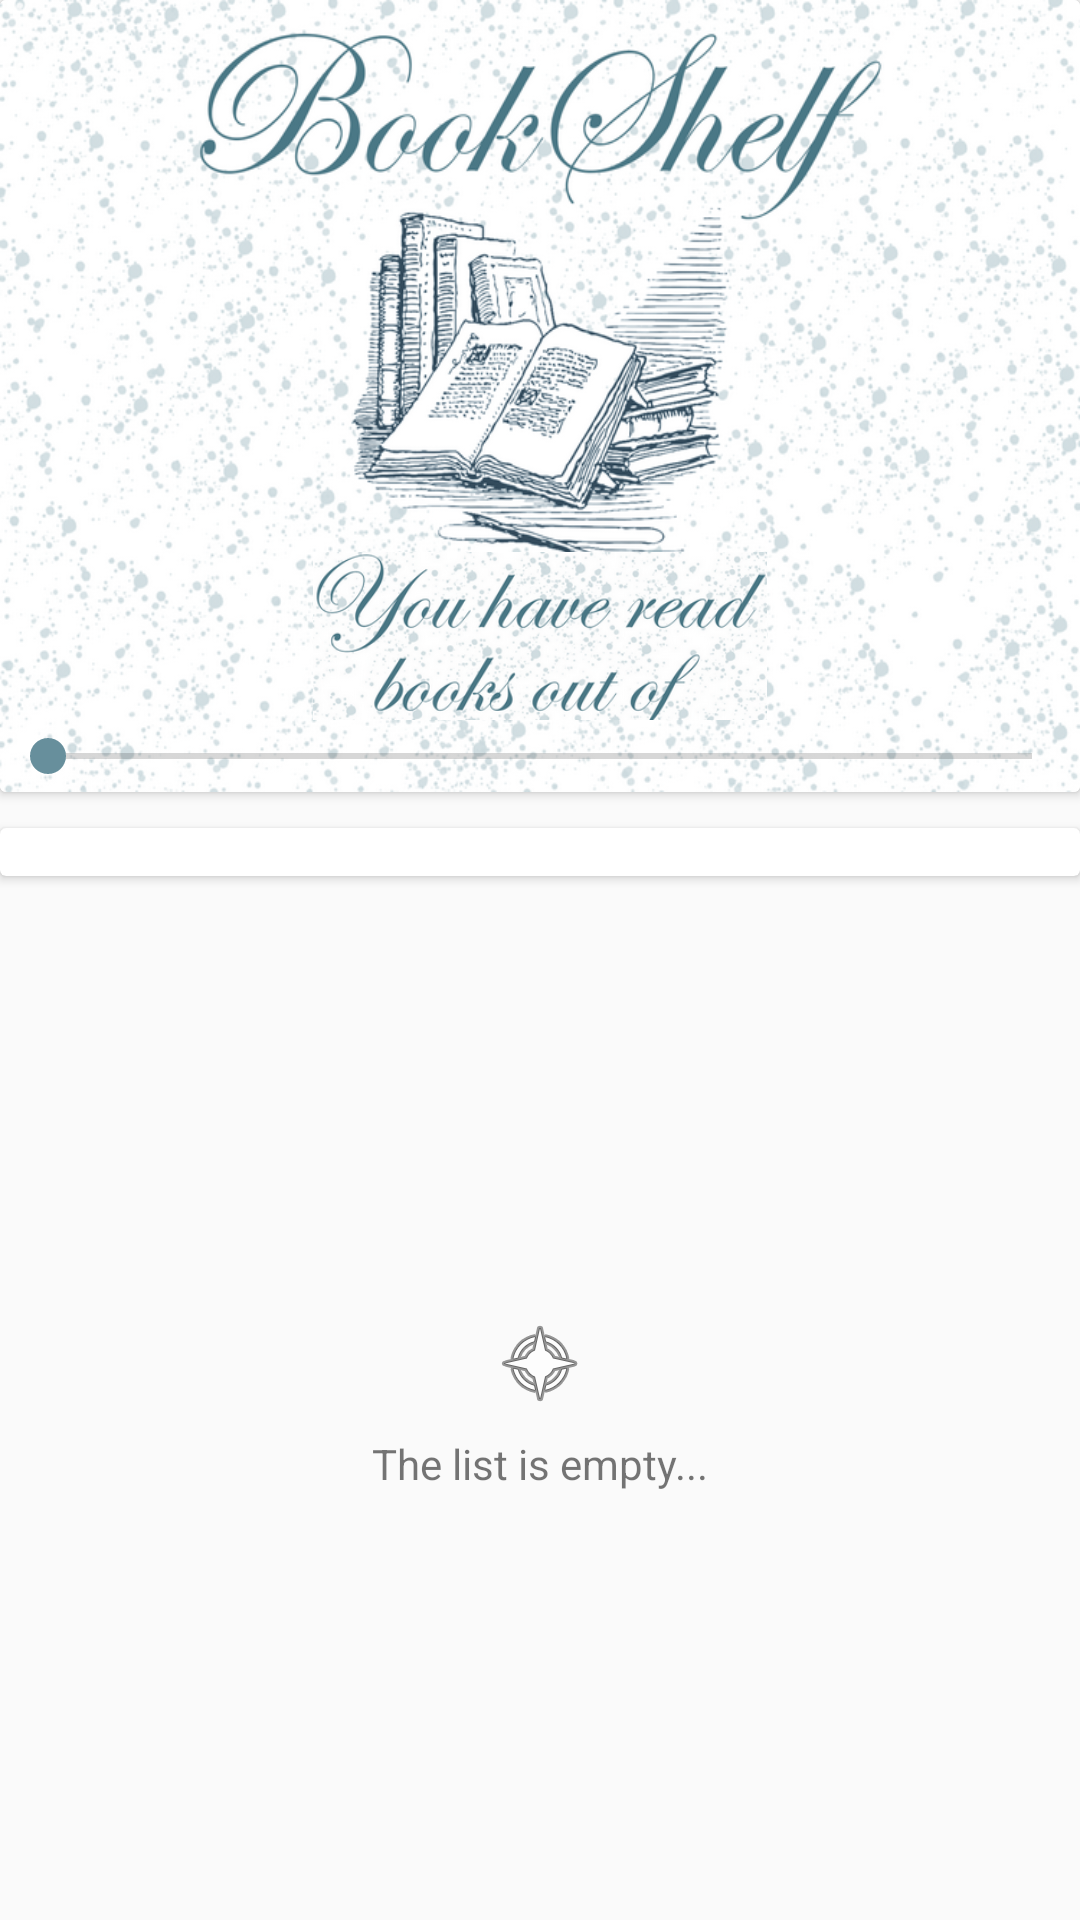

Icons on this 1080*1920 Android screen, each with its box as (x1, y1, x2, y2):
compass: (502, 1326, 578, 1401)
